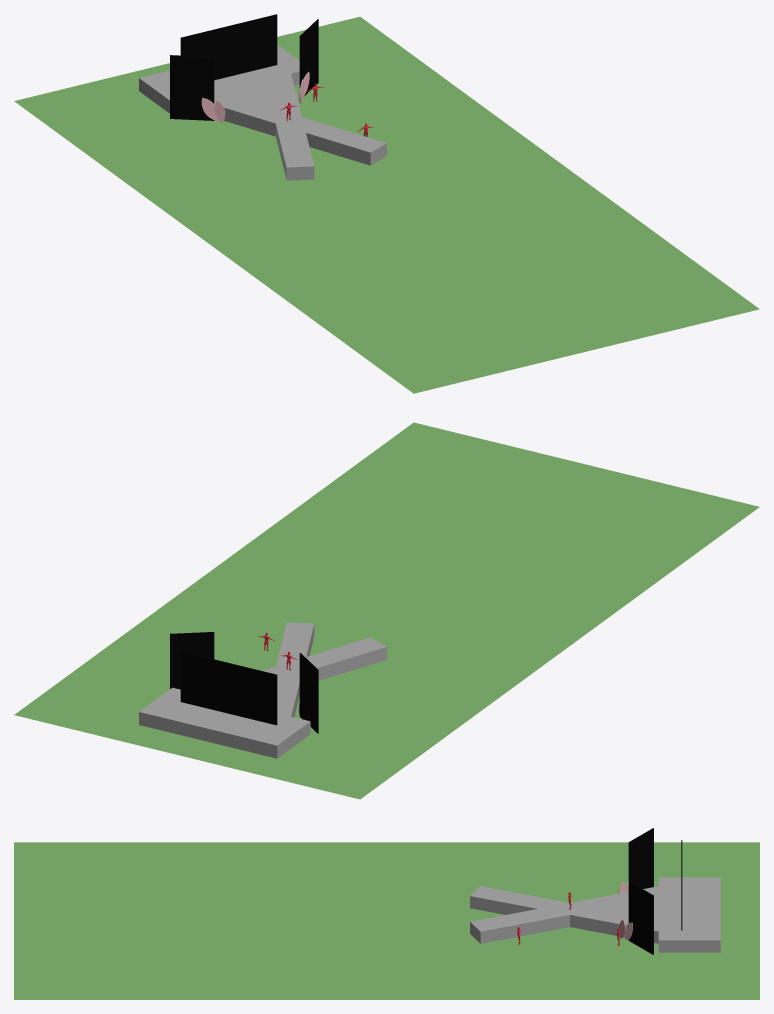
3 views of the same model, one above another, from view 1: azimuth 30°, elevation 25°; view 2: azimuth 150°, elevation 25°; view 3: azimuth 270°, elevation 25° (orthographic). The views are drawn at different scales.
Visible parts, largest first — view 1: Sân Quốc Phòng, LED main, Catwalk2, Catwalk1, Cube.002, Sàn, Cube.001, Cube.004, Cube; view 2: Sân Quốc Phòng, LED main, Cube, Catwalk2, Catwalk1, Cube.001, Cube.004, Cube.002, Cube.003; view 3: Sân Quốc Phòng, Catwalk2, Catwalk1, Cube, Cube.001, Cube.003, Cube.002, Sàn, Cube.004.
Part boxes in pixels (x1=…): Sân Quốc Phòng: x1=14, y1=16, x2=759, y2=393; LED main: x1=180, y1=14, x2=277, y2=80; Catwalk2: x1=214, y1=90, x2=386, y2=165; Catwalk1: x1=263, y1=73, x2=314, y2=180; Cube.002: x1=170, y1=55, x2=214, y2=120; Sàn: x1=214, y1=74, x2=292, y2=110; Cube.001: x1=299, y1=19, x2=318, y2=96; Cube.004: x1=139, y1=73, x2=169, y2=113; Cube: x1=159, y1=63, x2=289, y2=91; Sân Quốc Phòng: x1=14, y1=422, x2=759, y2=799; LED main: x1=180, y1=651, x2=277, y2=725; Cube: x1=158, y1=700, x2=290, y2=753; Catwalk2: x1=274, y1=622, x2=314, y2=716; Catwalk1: x1=262, y1=637, x2=386, y2=680; Cube.001: x1=170, y1=632, x2=214, y2=689; Cube.004: x1=258, y1=716, x2=310, y2=758; Cube.002: x1=299, y1=653, x2=318, y2=733; Cube.003: x1=139, y1=687, x2=180, y2=729; Sân Quốc Phòng: x1=14, y1=842, x2=759, y2=999; Catwalk2: x1=470, y1=886, x2=669, y2=943; Catwalk1: x1=470, y1=886, x2=662, y2=943; Cube: x1=658, y1=886, x2=720, y2=931; Cube.001: x1=628, y1=881, x2=653, y2=954; Cube.003: x1=658, y1=931, x2=720, y2=952; Cube.002: x1=628, y1=828, x2=653, y2=888; Sàn: x1=610, y1=896, x2=669, y2=921; Cube.004: x1=658, y1=877, x2=720, y2=886.
Size of the model in its own units: 36 by 6.3 by 72.
